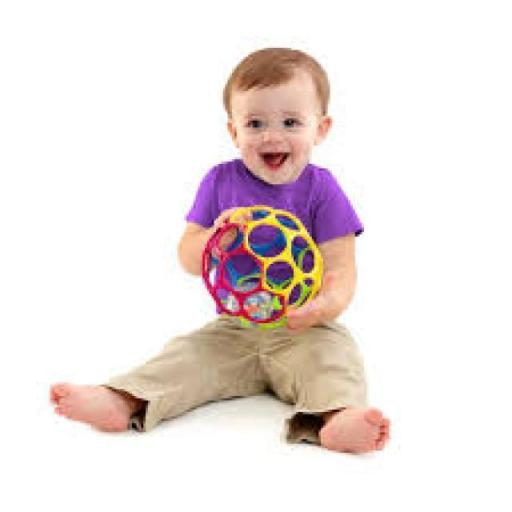baby: (51, 48, 389, 452)
